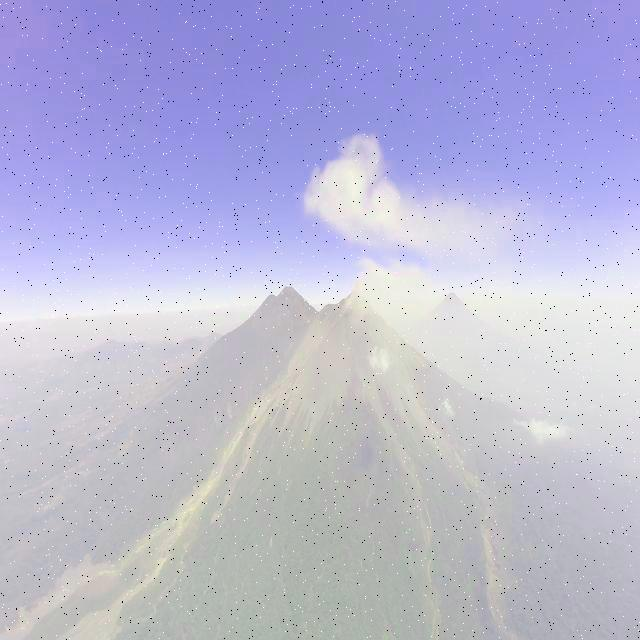Plume: (301, 122, 505, 264), (346, 256, 439, 332)
Summit: (342, 287, 372, 306)
